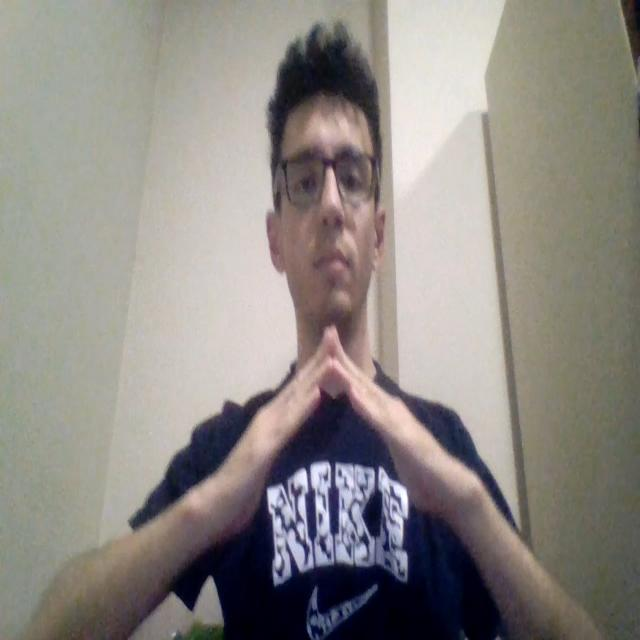house: (213, 325, 462, 521)
